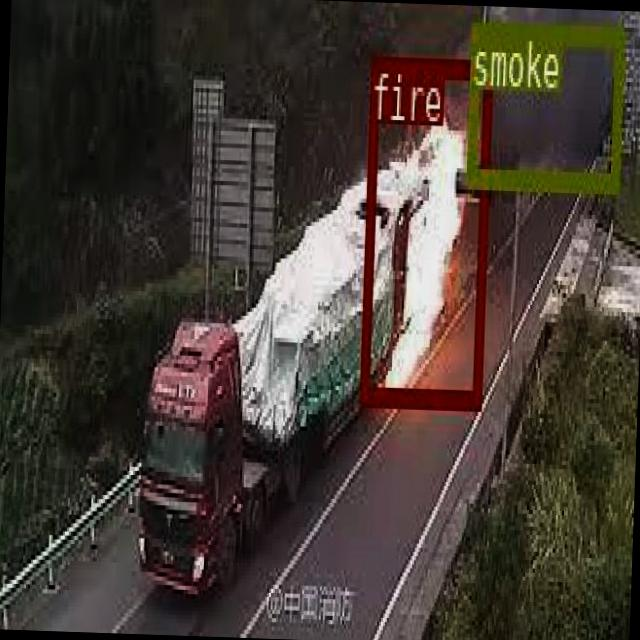fire: (358, 56, 491, 403)
smoke: (465, 22, 622, 190)
